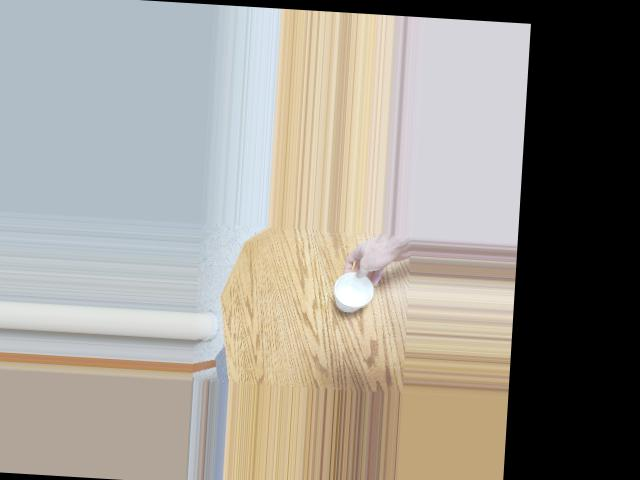cotage: (326, 264, 382, 313)
